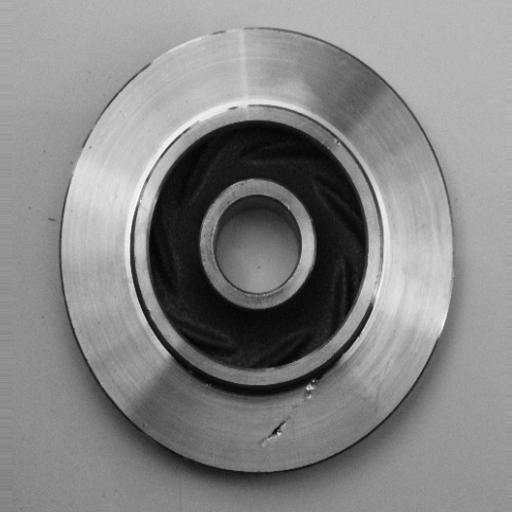crack: (257, 369, 329, 453)
scratch: (187, 98, 256, 128)
unpolished_casting: (57, 21, 457, 479)
